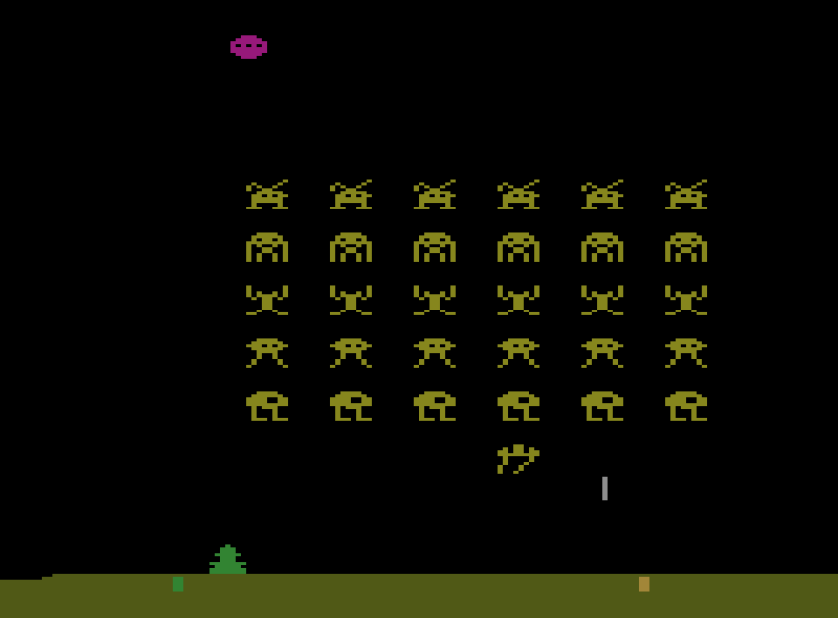bonus: (228, 33, 269, 62)
bullet: (600, 475, 610, 500)
invader1: (580, 176, 626, 211), (664, 176, 710, 211), (329, 175, 374, 210), (413, 176, 459, 210), (245, 177, 290, 210), (497, 177, 542, 210)
invader2: (411, 230, 458, 264), (244, 230, 290, 264), (329, 230, 374, 264), (580, 230, 625, 264), (664, 230, 709, 264), (495, 231, 541, 264)
invader3: (662, 282, 709, 318), (328, 283, 374, 318), (412, 282, 458, 317), (245, 282, 290, 316), (580, 284, 626, 317), (497, 284, 542, 316)
invader4: (244, 335, 290, 370), (329, 335, 374, 370), (413, 336, 459, 370), (496, 335, 542, 369), (663, 336, 709, 370), (581, 337, 626, 370)
invader5: (664, 388, 709, 424), (244, 387, 290, 422), (495, 389, 542, 423), (579, 388, 626, 422), (329, 388, 374, 423), (414, 389, 457, 422)
invader6: (495, 442, 542, 475)
player: (209, 541, 248, 574)
